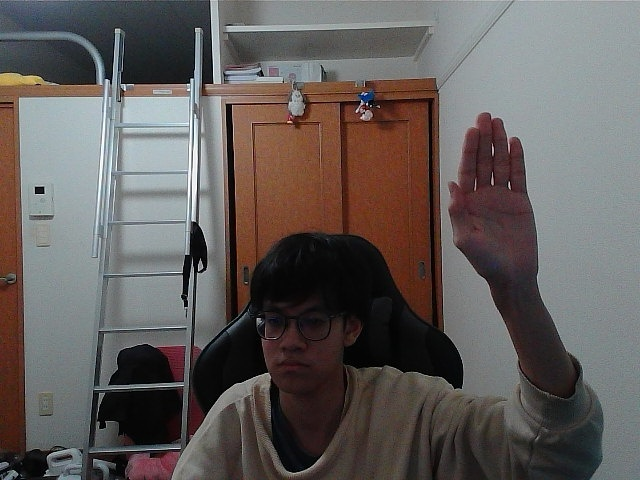open_palm: (456, 120, 520, 275)
